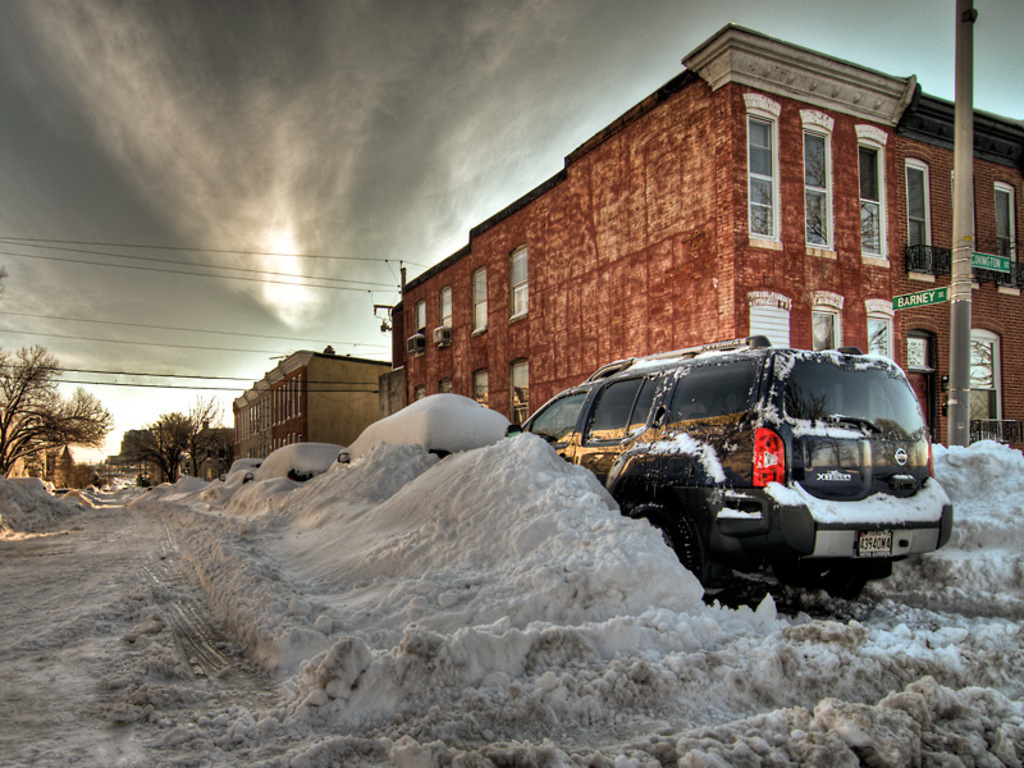Car: (510, 331, 947, 613), (331, 403, 505, 459), (240, 437, 343, 480), (230, 450, 259, 480)
